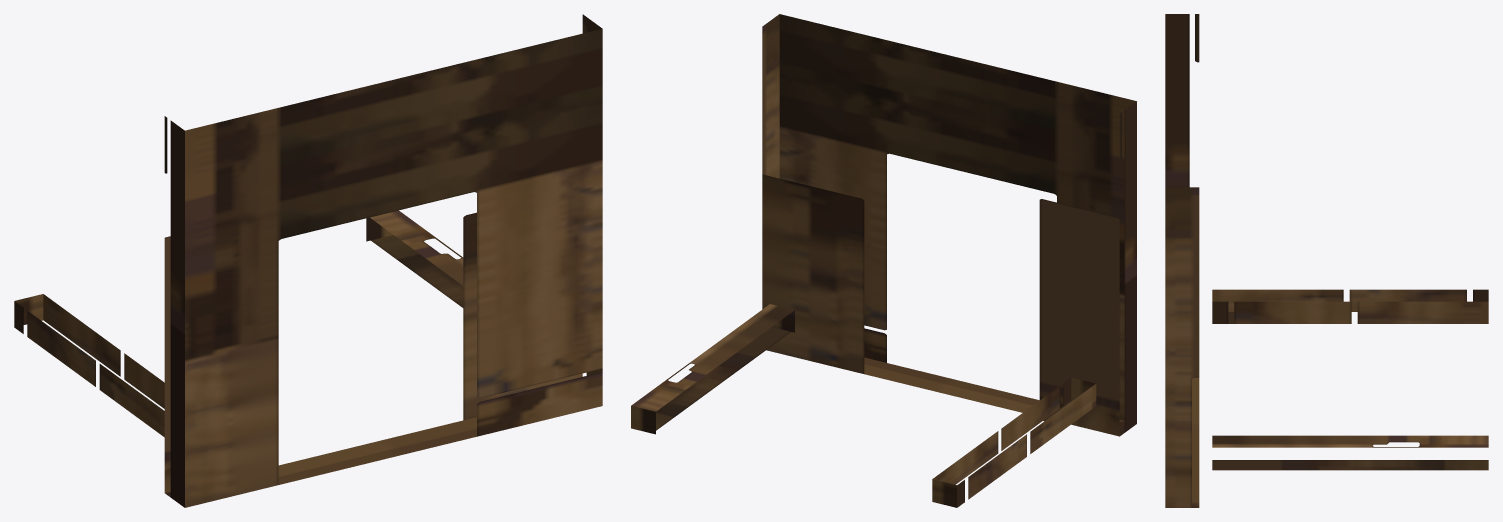
File: section-3.obj
3 views of the same model, side by side, from view 1: azimuth 30°, elevation 25°; view 2: azimuth 150°, elevation 25°; view 3: azimuth 270°, elevation 25° (orthographic). The views are drawn at different scales.
Bounding box in the file's own units: 0.9994 × 0.8625 × 0.7888.
